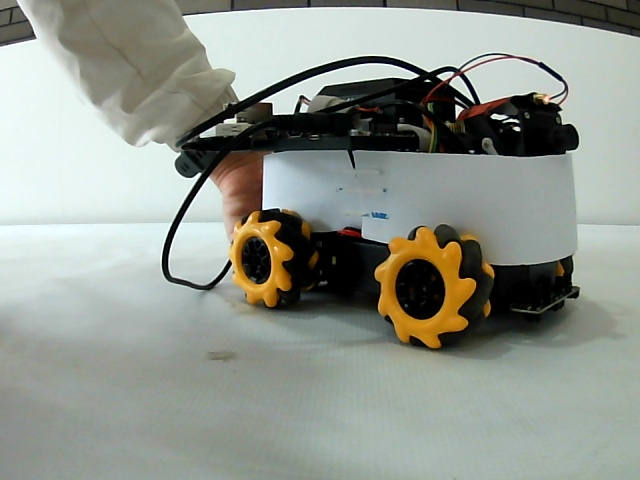car: (213, 68, 585, 350)
paper: (263, 156, 570, 210)
